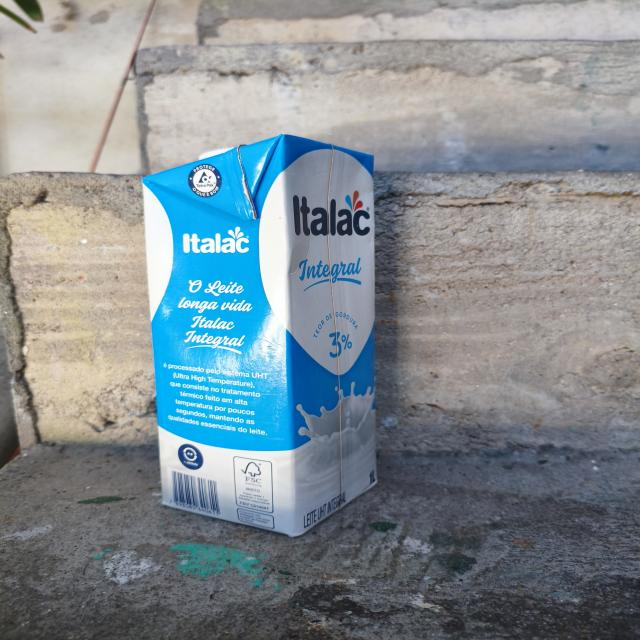Caixa de Leite: (117, 128, 410, 540)
